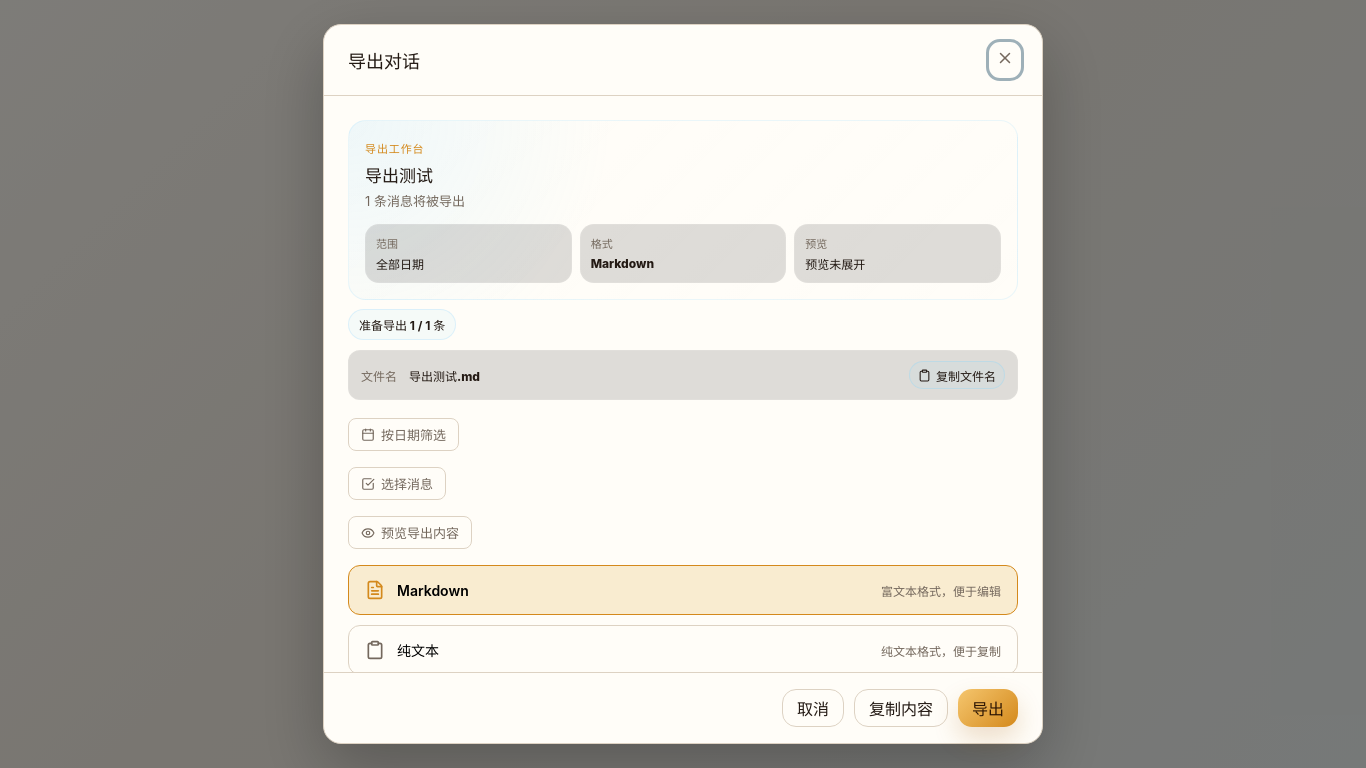
Test: ExportModal › falls back to selecting preview text when Clipboard API is unavailable
Click the button "复制内容". click: (901, 708)
box: [854,689,948,727]
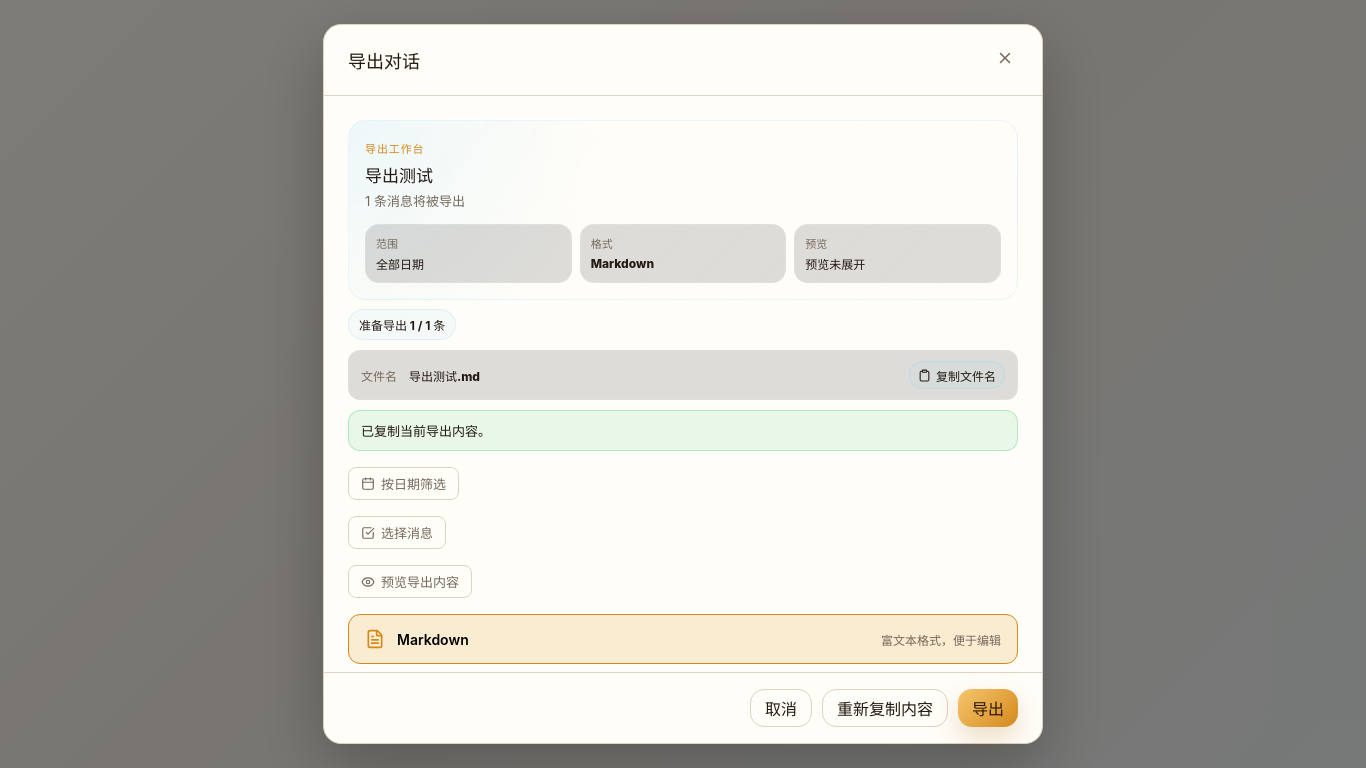
Result: the text "已复制当前导出内容。" is shown at [348,410,1018,451]
